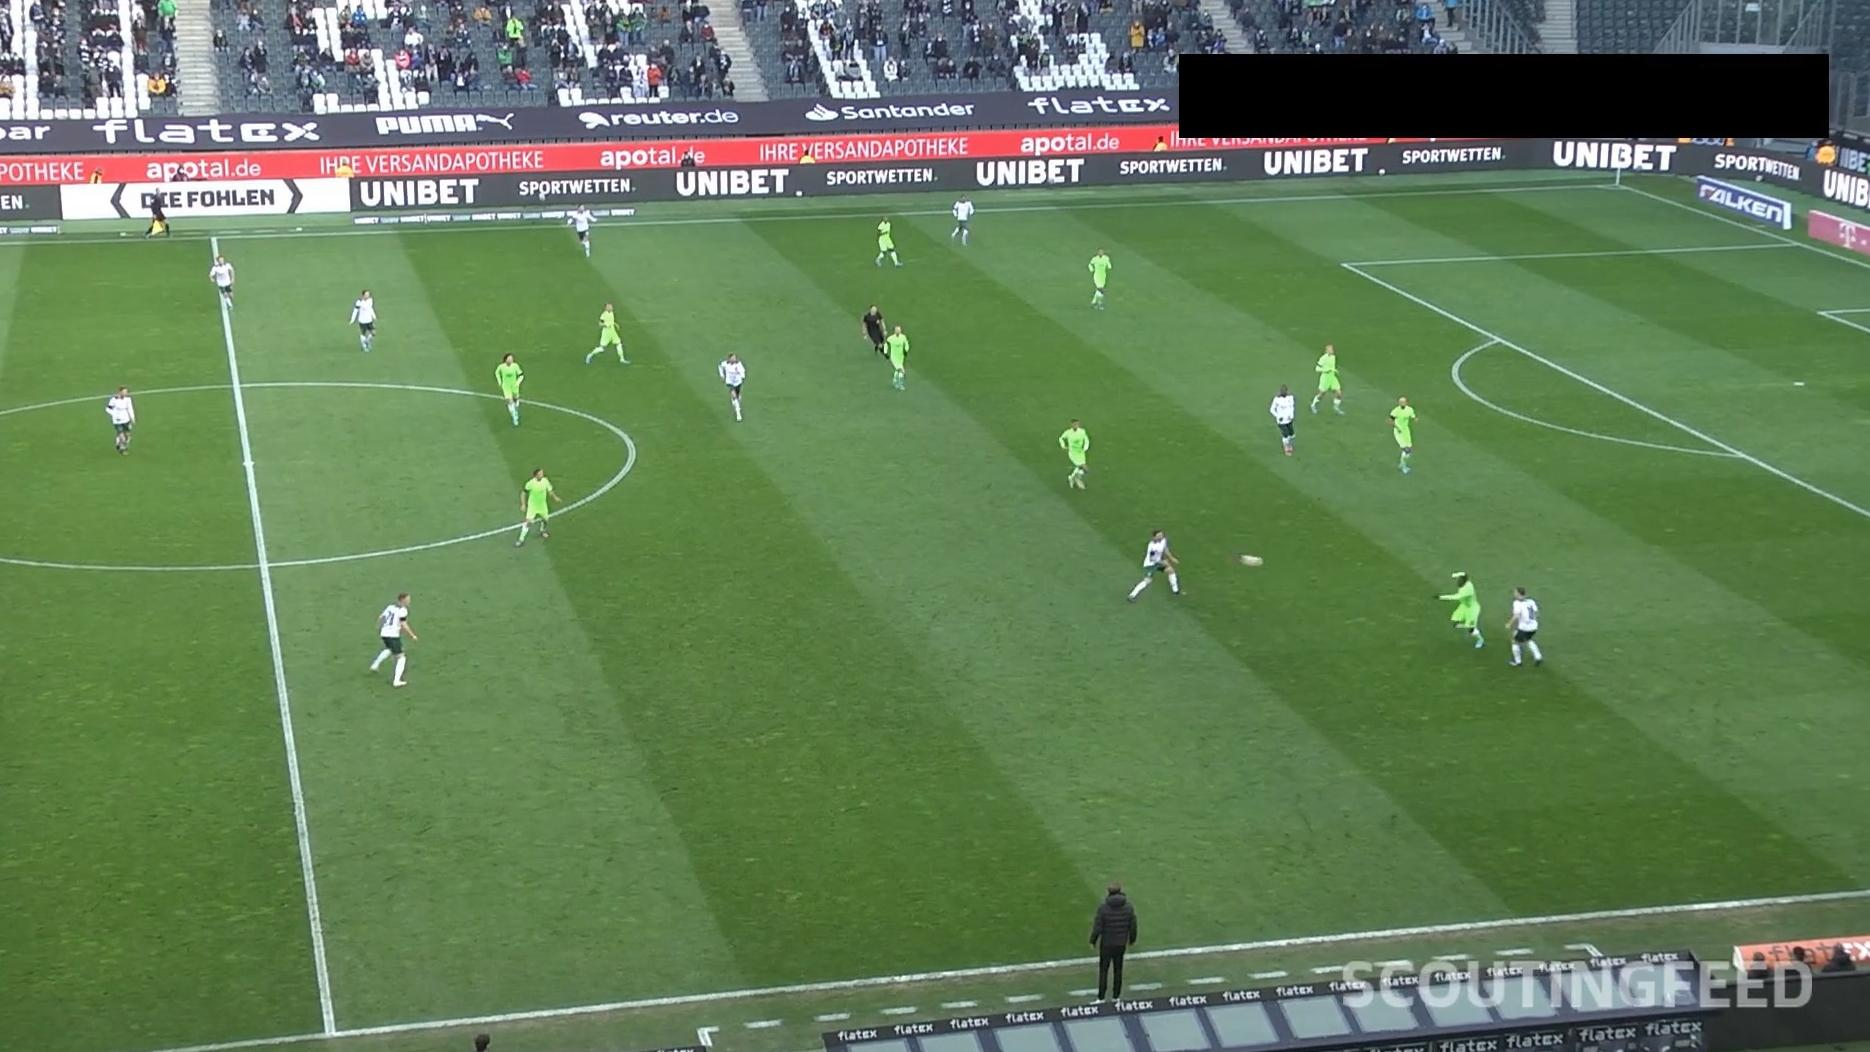ball: (1237, 552, 1264, 568)
